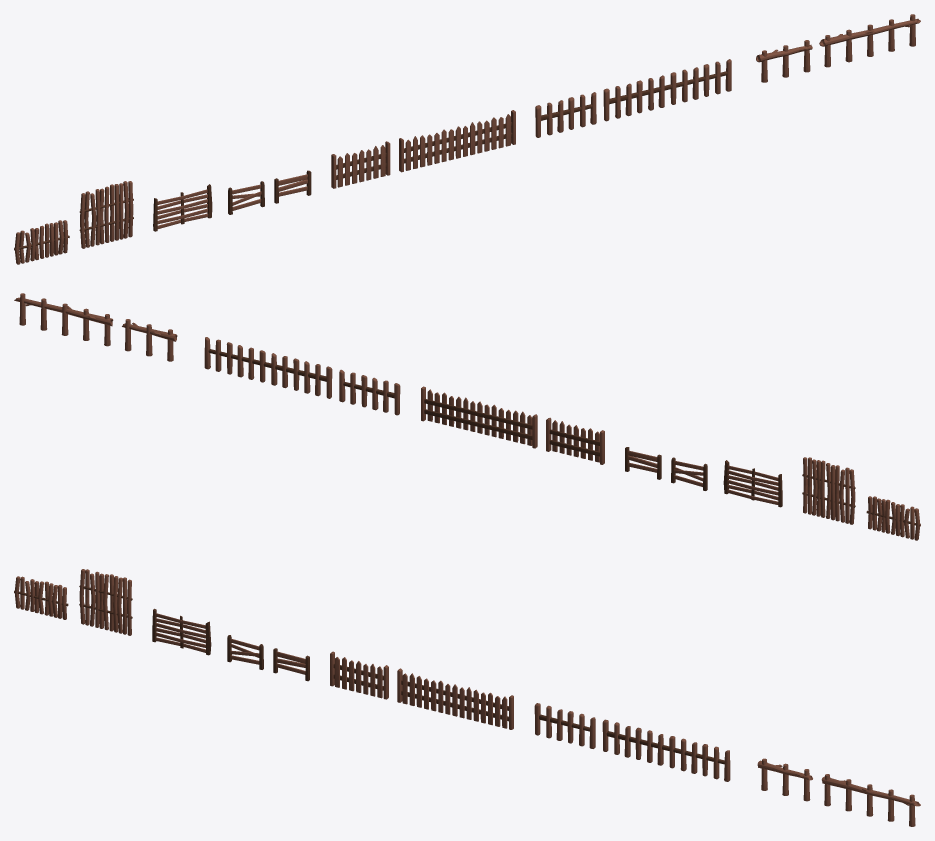
The model's file is Fence_Smooth.fbx.
The picture shows the model from 3 angles, top to bottom: view 1: azimuth 30°, elevation 25°; view 2: azimuth 150°, elevation 25°; view 3: azimuth 330°, elevation 25°; orthographic projection.
Parts seen in each view (by area): view 1: Fence_Smooth_Type 3_02, Fence_Smooth_Type 2_01, Fence_Smooth_Type 4_02, Fence_Smooth_Type 3_01, Fence_Smooth_Type 2_02, Fence_Smooth_Type 1_03, Fence_Smooth_Type 5_02, Fence_Smooth_Type 4_01, Fence_Smooth_Type 5_01, Fence_Smooth_Type 1_02, Fence_Smooth_Type 1_01; view 2: Fence_Smooth_Type 3_02, Fence_Smooth_Type 2_01, Fence_Smooth_Type 4_02, Fence_Smooth_Type 3_01, Fence_Smooth_Type 2_02, Fence_Smooth_Type 1_03, Fence_Smooth_Type 5_02, Fence_Smooth_Type 4_01, Fence_Smooth_Type 5_01, Fence_Smooth_Type 1_02, Fence_Smooth_Type 1_01; view 3: Fence_Smooth_Type 3_02, Fence_Smooth_Type 2_01, Fence_Smooth_Type 4_02, Fence_Smooth_Type 3_01, Fence_Smooth_Type 2_02, Fence_Smooth_Type 1_03, Fence_Smooth_Type 5_02, Fence_Smooth_Type 4_01, Fence_Smooth_Type 5_01, Fence_Smooth_Type 1_02, Fence_Smooth_Type 1_01.
Boxes of the visible parts, x1,y1,x2,y2 form: Fence_Smooth_Type 3_02: (399, 110, 515, 172); Fence_Smooth_Type 2_01: (79, 181, 133, 248); Fence_Smooth_Type 4_02: (603, 59, 731, 121); Fence_Smooth_Type 3_01: (331, 141, 390, 188); Fence_Smooth_Type 2_02: (14, 220, 69, 264); Fence_Smooth_Type 1_03: (153, 184, 212, 231); Fence_Smooth_Type 5_02: (819, 14, 920, 67); Fence_Smooth_Type 4_01: (535, 92, 596, 137); Fence_Smooth_Type 5_01: (756, 40, 812, 82); Fence_Smooth_Type 1_02: (228, 181, 264, 214); Fence_Smooth_Type 1_01: (274, 170, 311, 203); Fence_Smooth_Type 3_02: (421, 386, 537, 448); Fence_Smooth_Type 2_01: (802, 457, 855, 524); Fence_Smooth_Type 4_02: (204, 337, 332, 398); Fence_Smooth_Type 3_01: (546, 417, 604, 464); Fence_Smooth_Type 2_02: (866, 496, 920, 540); Fence_Smooth_Type 1_03: (723, 460, 782, 507); Fence_Smooth_Type 5_02: (14, 293, 113, 346); Fence_Smooth_Type 4_01: (339, 369, 400, 415); Fence_Smooth_Type 5_01: (122, 319, 177, 361); Fence_Smooth_Type 1_02: (671, 457, 707, 490); Fence_Smooth_Type 1_01: (625, 447, 661, 479); Fence_Smooth_Type 3_02: (397, 668, 513, 729); Fence_Smooth_Type 2_01: (79, 569, 132, 635); Fence_Smooth_Type 4_02: (602, 719, 730, 781); Fence_Smooth_Type 3_01: (330, 651, 388, 699); Fence_Smooth_Type 2_02: (14, 576, 68, 619); Fence_Smooth_Type 1_03: (152, 608, 211, 655); Fence_Smooth_Type 5_02: (821, 774, 920, 826); Fence_Smooth_Type 4_01: (534, 703, 595, 748); Fence_Smooth_Type 5_01: (757, 758, 812, 801); Fence_Smooth_Type 1_02: (227, 635, 263, 669); Fence_Smooth_Type 1_01: (273, 648, 309, 681).
Size of the model in its own units: 2919 by 179 by 33.32.
